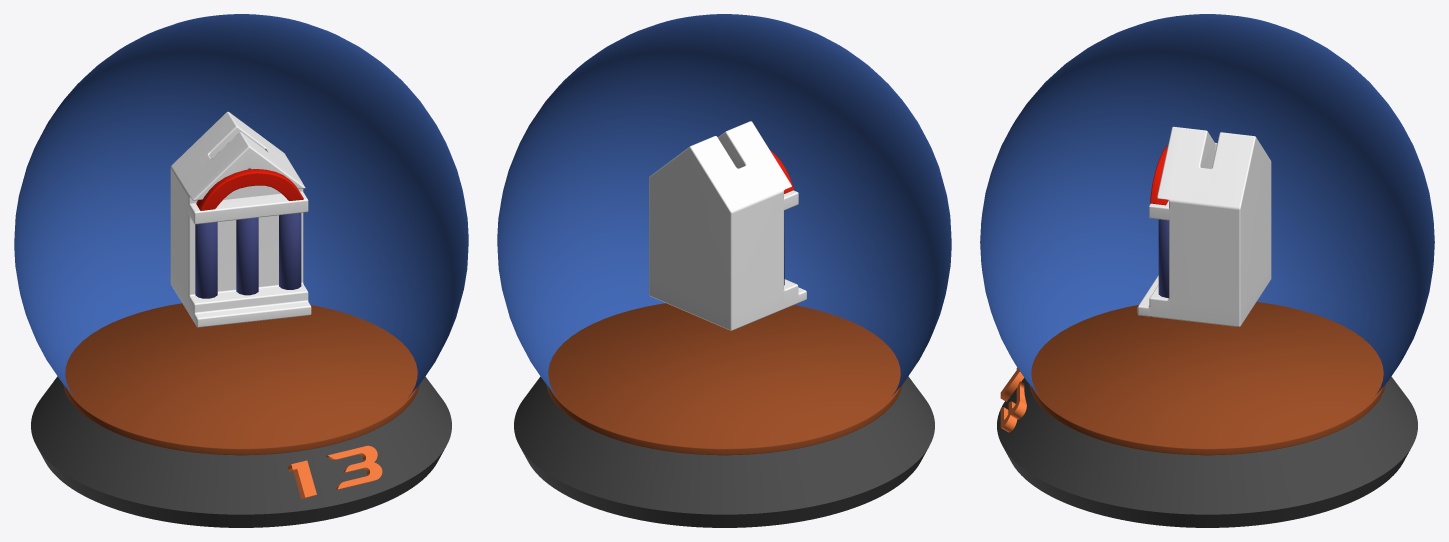
File: Curio_13.glb
The picture shows the model from 3 angles, left to right: view 1: azimuth 30°, elevation 25°; view 2: azimuth 150°, elevation 25°; view 3: azimuth 270°, elevation 25°; orthographic projection.
Parts seen in each view (by area): view 1: Sphere.044, Sphere.043, Sphere.042, Cube.030, Text.018; view 2: Sphere.044, Sphere.043, Sphere.042, Cube.030; view 3: Sphere.044, Sphere.043, Sphere.042, Cube.030, Text.018.
Part boxes in pixels (x1,y1,x2,y2): Sphere.044: (14, 14, 468, 397); Sphere.043: (63, 303, 419, 455); Sphere.042: (31, 376, 451, 527); Cube.030: (170, 111, 311, 327); Text.018: (287, 445, 382, 499); Sphere.044: (497, 14, 951, 397); Sphere.043: (546, 303, 902, 455); Sphere.042: (514, 376, 934, 527); Cube.030: (649, 121, 806, 330); Sphere.044: (980, 14, 1434, 395); Sphere.043: (1029, 302, 1385, 455); Sphere.042: (997, 376, 1417, 527); Cube.030: (1137, 126, 1271, 326); Text.018: (1000, 367, 1026, 432).
Bounding box in the file's own units: 4.66 × 4.62 × 4.66.
